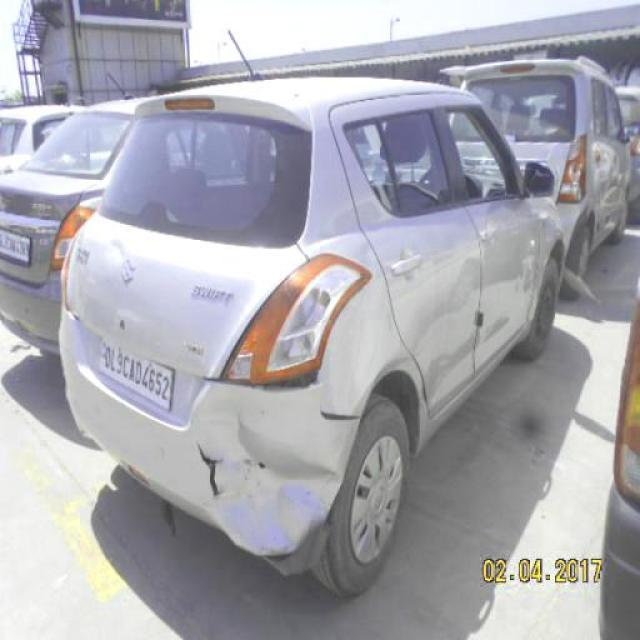Car-Damage: (216, 417, 343, 553), (200, 364, 321, 398), (193, 438, 227, 507), (100, 233, 129, 275), (317, 405, 362, 428)
